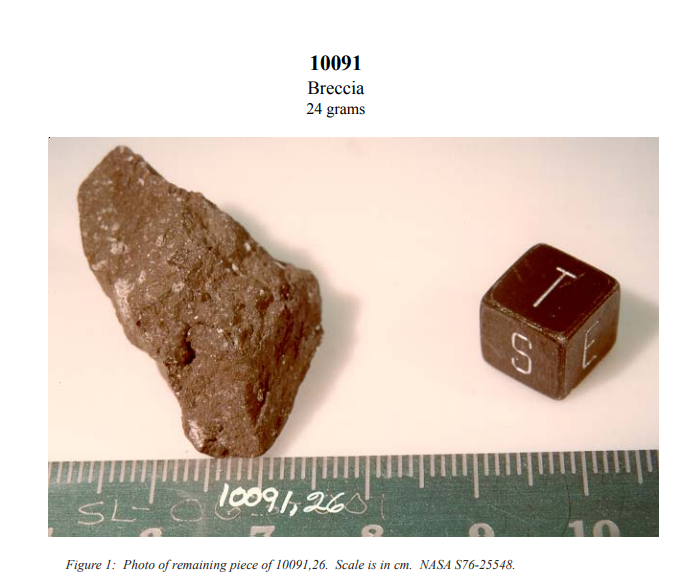Breccia: (53, 137, 337, 471)
